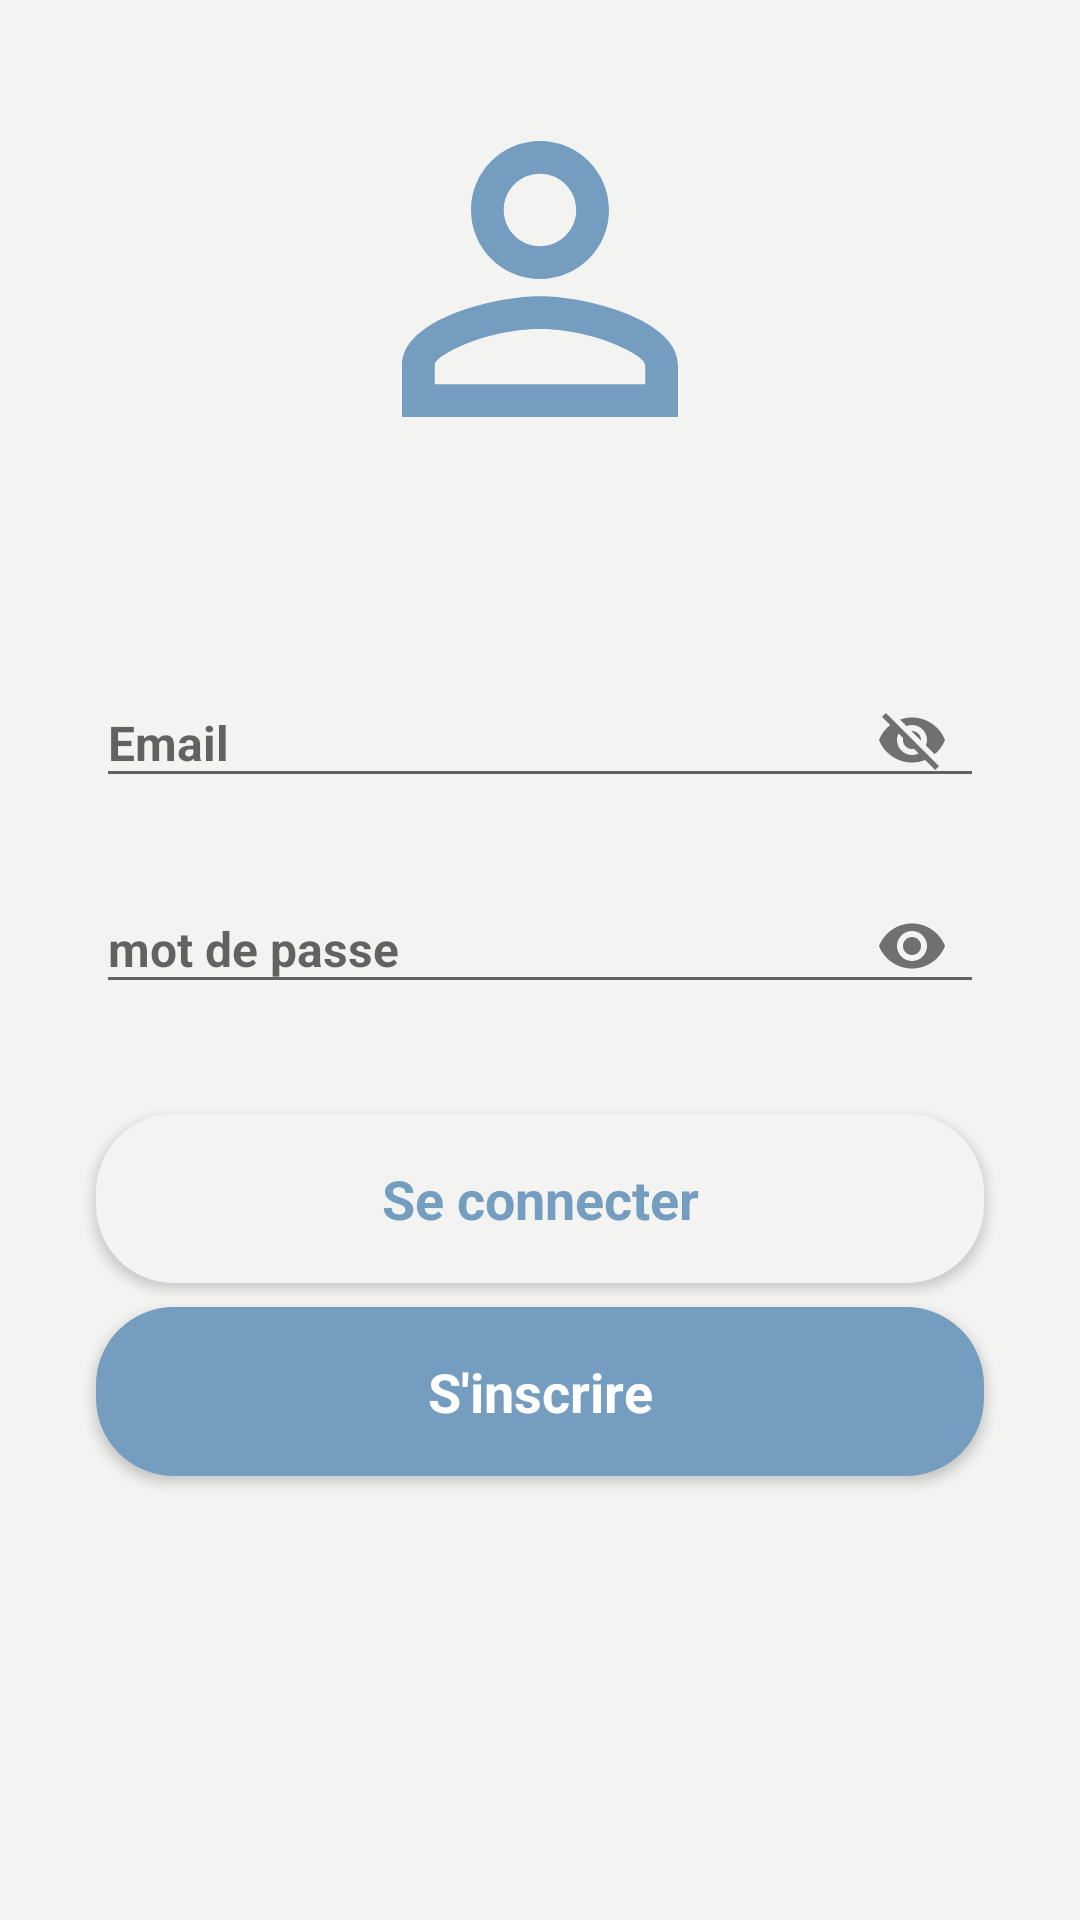

Icons on this 1080w x 1920h Android screen, each with the point to tap as [x,y]:
perm identity: [540,279]
